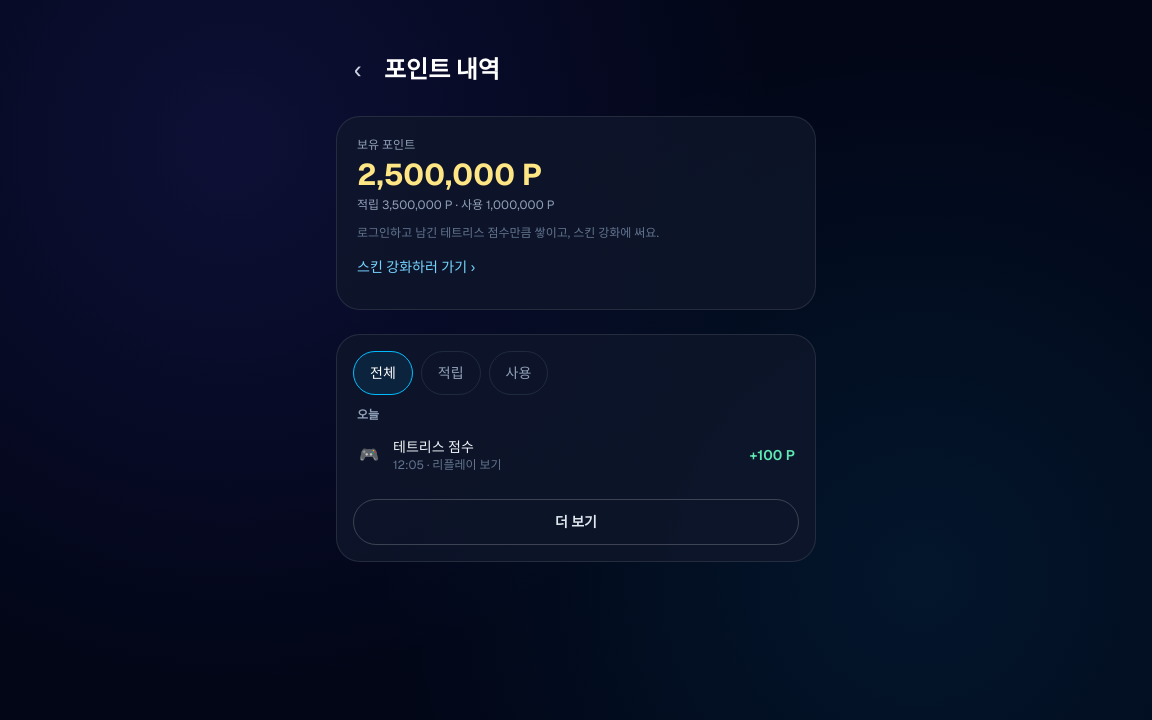
포인트 내역 (tetris-home A) › [더 보기]가 401이면 다시 로그인 안내로
Click the button "더 보기". click: (576, 522)
box: [353, 499, 799, 545]
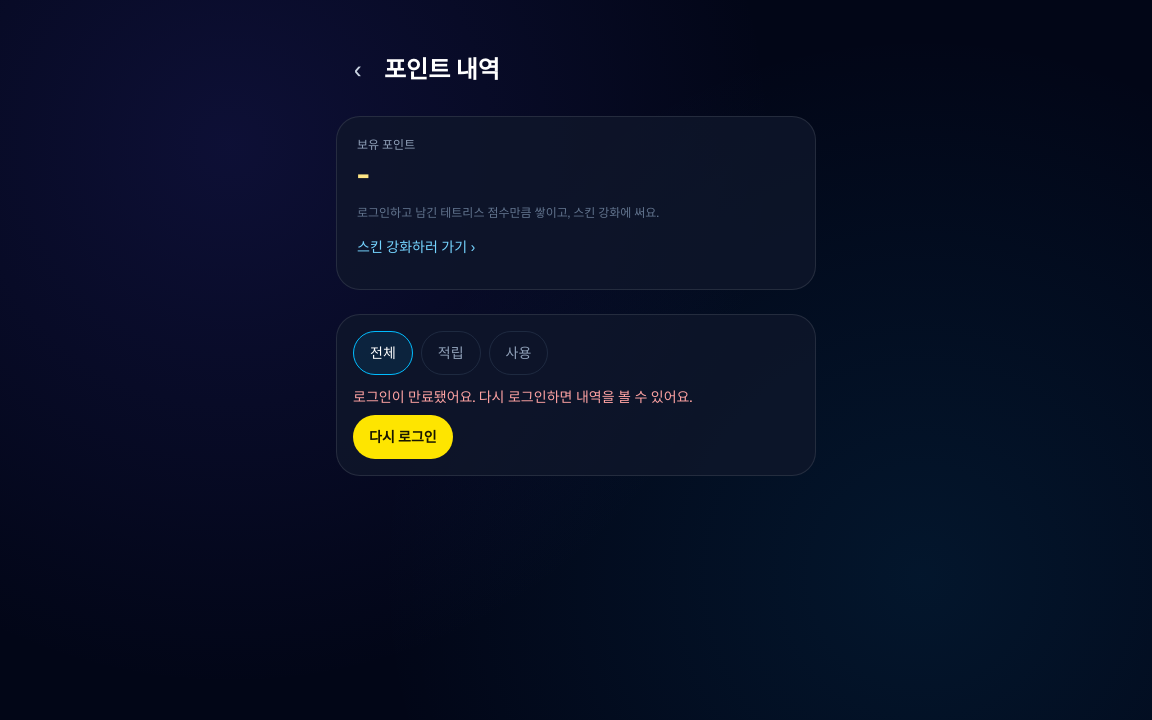
Expected: the message shows "로그인이 만료됐어요", [353, 388, 692, 406]
Expected: the button "다시 로그인" is shown, [353, 415, 453, 459]
